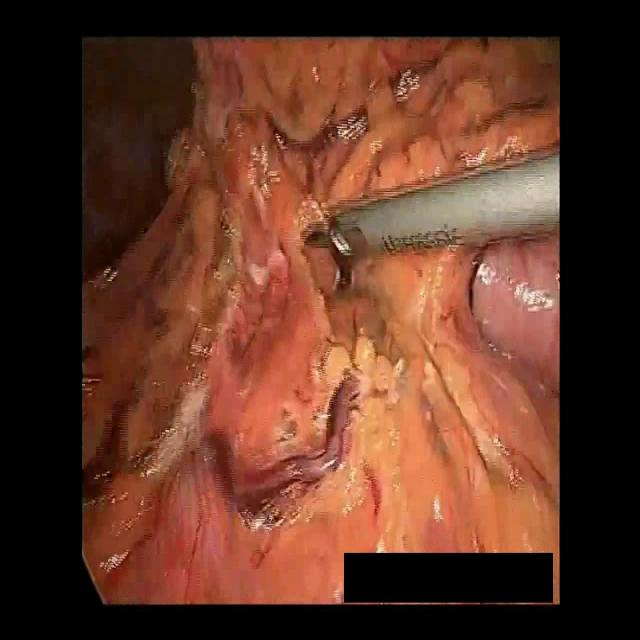surgical-area: (82, 37, 560, 606)
surgical-tool: (321, 143, 558, 271)
